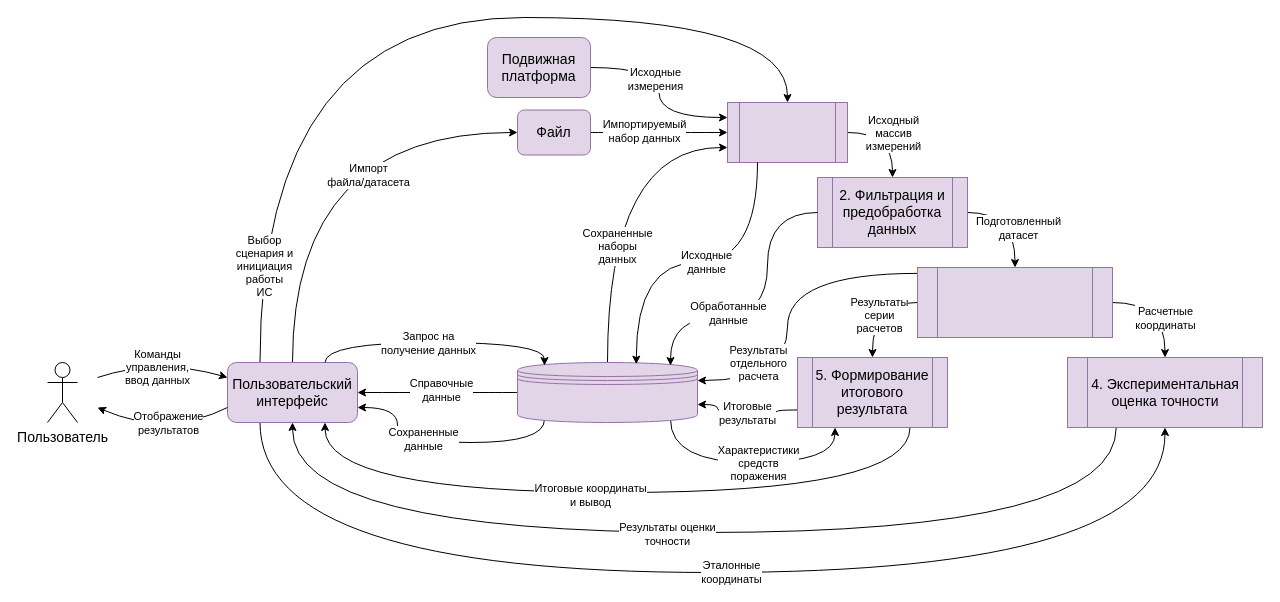
Image size: 1280x602. Some labels were removed from this diagram. Each missing label, with the centre of its shape:
"1. Получение данных" belongs at point 787,132.
"3. Расчет координатной оценки источника излучения" belongs at point 1014,302.
"База данных ИС" belongs at point 607,392.
